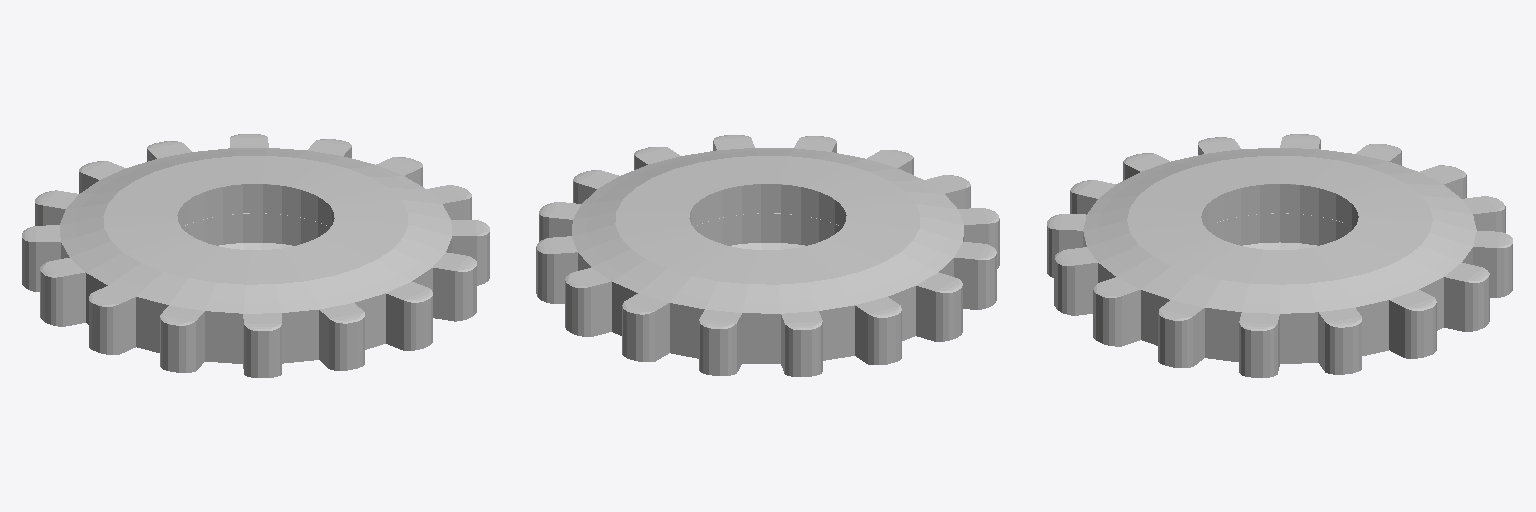
The model's file is gear.obj.
3 views of the same model, side by side, from view 1: azimuth 30°, elevation 25°; view 2: azimuth 150°, elevation 25°; view 3: azimuth 270°, elevation 25° (orthographic).
Parts seen in each view (by area): view 1: Cylinder.001_Cylinder.005; view 2: Cylinder.001_Cylinder.005; view 3: Cylinder.001_Cylinder.005.
Boxes of the visible parts, <box> form: Cylinder.001_Cylinder.005: <box>22,134,489,377</box>; Cylinder.001_Cylinder.005: <box>536,135,999,376</box>; Cylinder.001_Cylinder.005: <box>1047,134,1512,377</box>.
Bounding box in the file's own units: 1.46 × 0.2687 × 1.46.